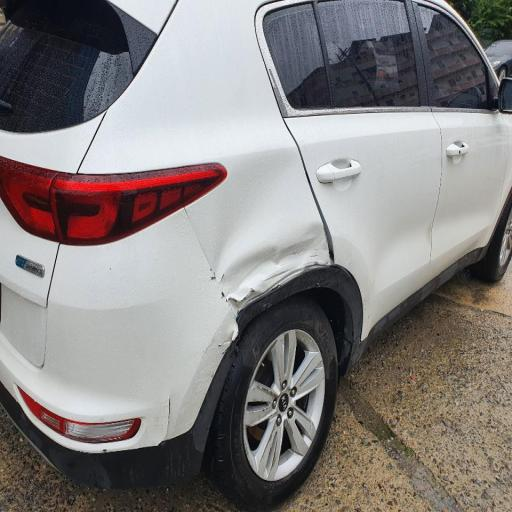dent: (176, 160, 361, 347)
